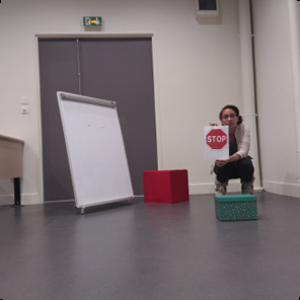stop: (206, 128, 228, 150)
